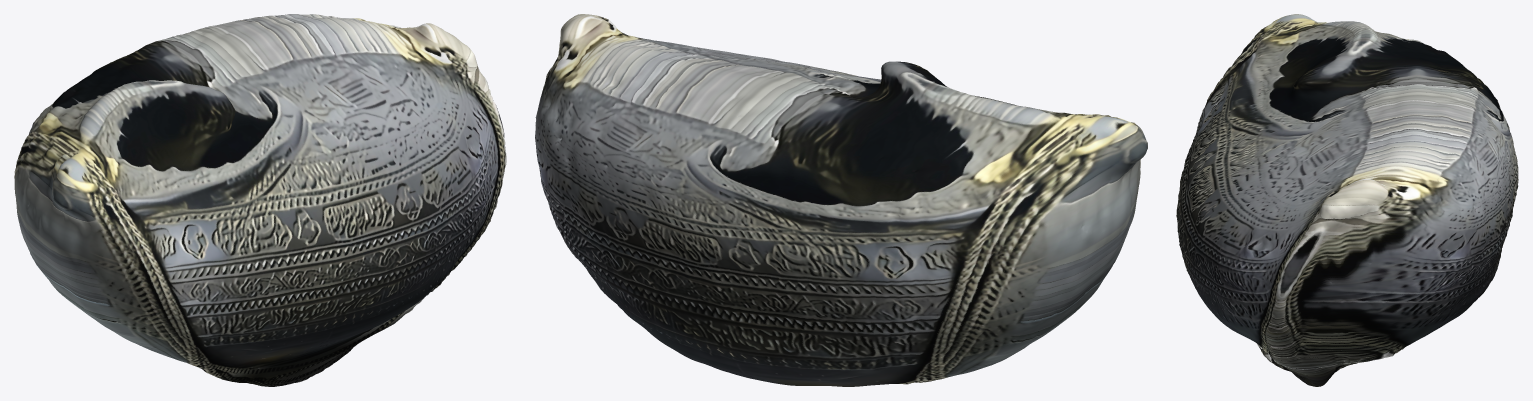
The model's file is kfl-2165.glb.
3 renders of one model, left to right at view 1: azimuth 30°, elevation 25°; view 2: azimuth 150°, elevation 25°; view 3: azimuth 270°, elevation 25°, orthographic. The views are drawn at different scales.
Parts seen in each view (by area): view 1: kfl-2165; view 2: kfl-2165; view 3: kfl-2165.
Part boxes in pixels (left/top/right/bottom): kfl-2165: left=14, top=14, right=506, bottom=386; kfl-2165: left=535, top=14, right=1147, bottom=386; kfl-2165: left=1176, top=14, right=1518, bottom=386.
Size of the model in its own units: 0.9877 by 0.6241 by 0.7032.
Materials: 1 (1 with a texture image).
